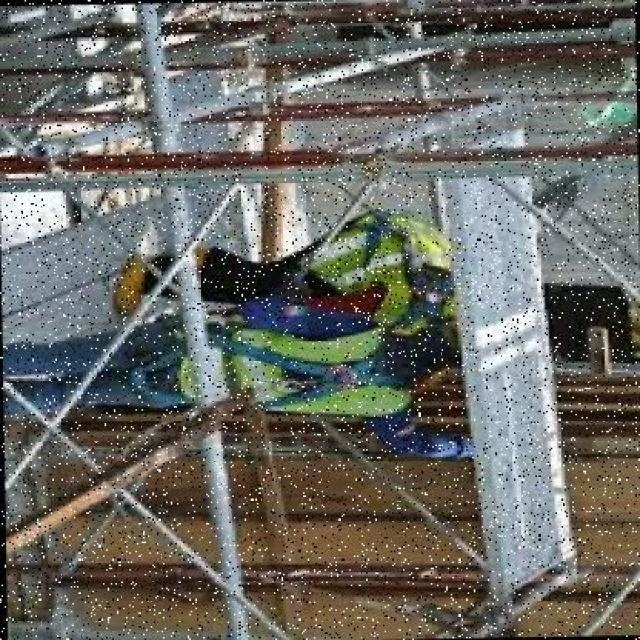Arnes_seguridad: (125, 319, 418, 419), (317, 206, 458, 331)
